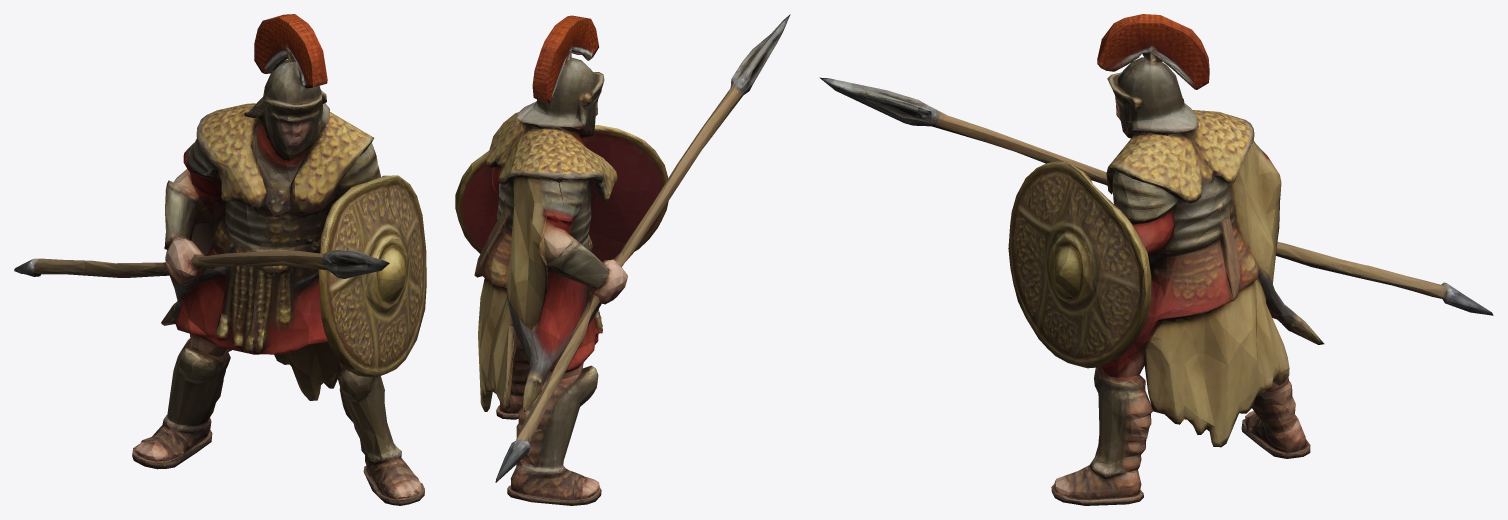
Rendered from legionSpearman.glb.
The picture shows the model from 3 angles, left to right: view 1: azimuth 30°, elevation 25°; view 2: azimuth 150°, elevation 25°; view 3: azimuth 270°, elevation 25°; orthographic projection. The views are drawn at different scales.
Parts seen in each view (by area): view 1: world; view 2: world; view 3: world.
Part boxes in pixels (x1,y1,x2,y2): world: (14,14,426,505); world: (455,14,790,505); world: (819,14,1493,505).
Size of the model in its own units: 0.3715 by 0.6898 by 0.9432.
1 material, 1 textured.
